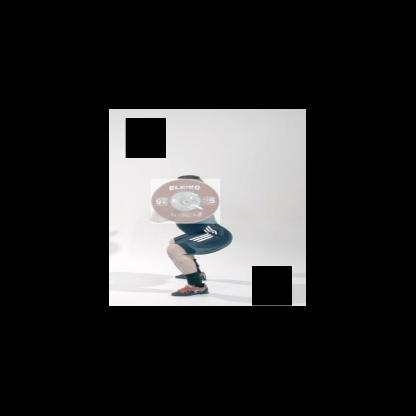barbell: (151, 179, 220, 224)
